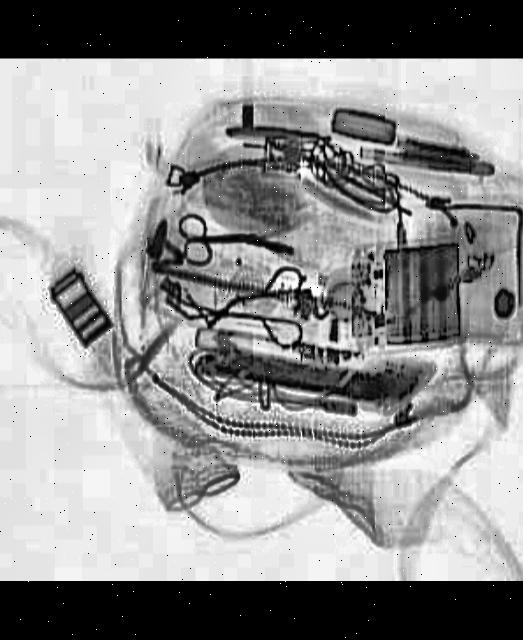Scissors: (174, 213, 255, 268)
